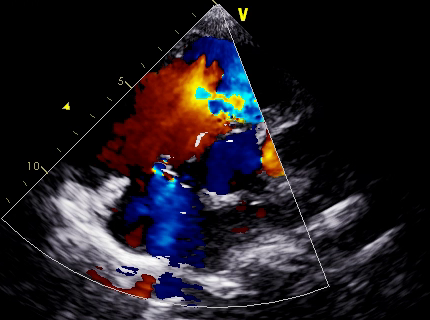TR: (121, 140, 204, 228)
